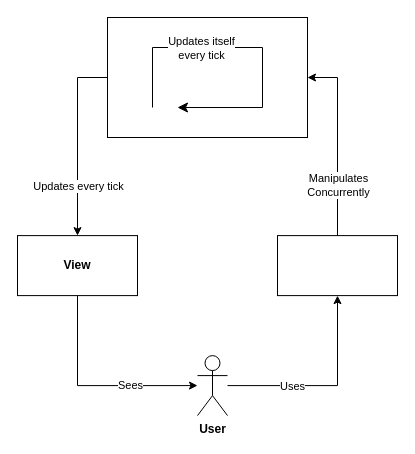
Image size: 415x454. Some labels were removed from this diagram. The shapes that lost their labels are listed below. From the top down, each one's centre as x and y in pixels, then its label:
the point at 207,77: Model/Domain
the point at 337,265: Controller
